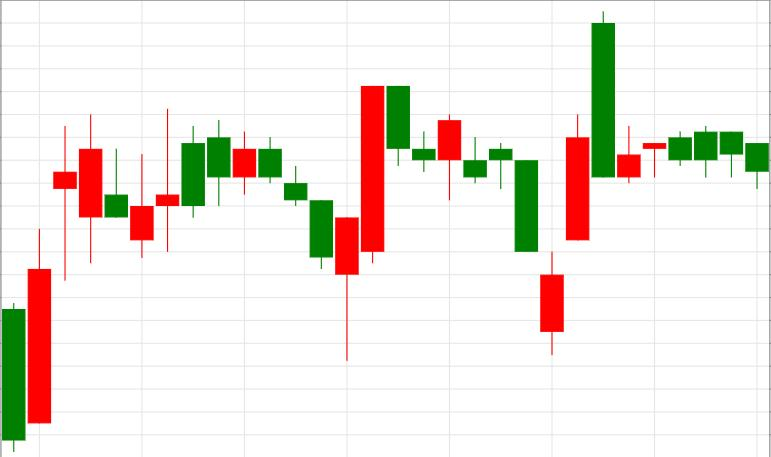hammer_rise: (207, 120, 359, 361)
